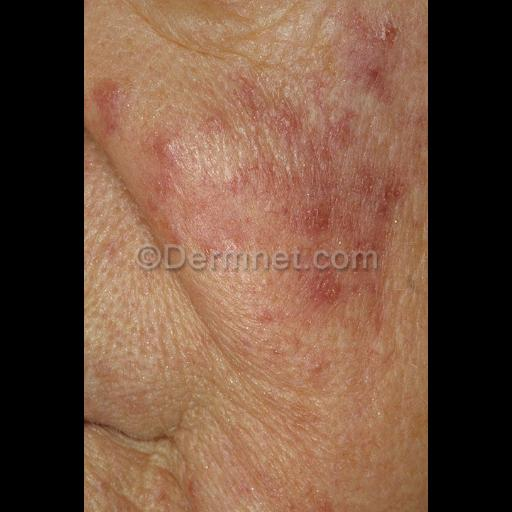Skin_Lesion: (349, 3, 399, 107), (243, 91, 331, 143), (312, 264, 366, 326), (292, 186, 336, 248), (143, 126, 191, 170), (139, 190, 203, 220), (376, 172, 398, 228), (256, 270, 276, 322), (306, 476, 332, 512), (380, 12, 400, 52), (104, 94, 122, 134)
